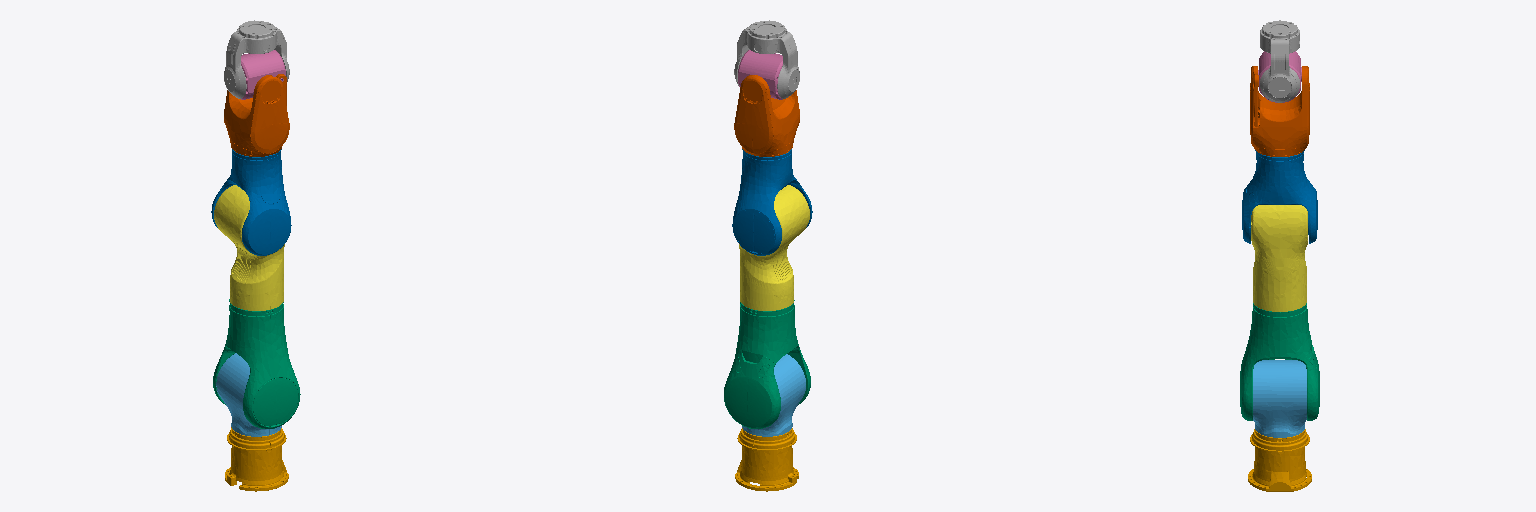
URDF robot description (robot):
<?xml version="1.0" encoding="UTF-8"?>
<robot name="robot">
  <link name="base_link">
    <visual>
      <origin xyz="0 0 0" rpy="0 0 0"/>
      <geometry>
        <mesh filename="meshes/base_link.stl"/>
      </geometry>
    </visual>
    <collision>
      <origin xyz="0 0 0" rpy="0 0 0"/>
      <geometry>
        <mesh filename="meshes/base_link.stl"/>
      </geometry>
    </collision>
  </link>
  <link name="Link_1">
    <visual>
      <origin xyz="0 0 0" rpy="0 0 0"/>
      <geometry>
        <mesh filename="meshes/Link_1.stl"/>
      </geometry>
    </visual>
    <collision>
      <origin xyz="0 0 0" rpy="0 0 0"/>
      <geometry>
        <mesh filename="meshes/Link_1.stl"/>
      </geometry>
    </collision>
  </link>
  <link name="Link_2">
    <visual>
      <origin xyz="0 0 0" rpy="0 0 0"/>
      <geometry>
        <mesh filename="meshes/Link_2.stl"/>
      </geometry>
    </visual>
    <collision>
      <origin xyz="0 0 0" rpy="0 0 0"/>
      <geometry>
        <mesh filename="meshes/Link_2.stl"/>
      </geometry>
    </collision>
  </link>
  <link name="Link_3">
    <visual>
      <origin xyz="0 0 0" rpy="0 0 0"/>
      <geometry>
        <mesh filename="meshes/Link_3.stl"/>
      </geometry>
    </visual>
    <collision>
      <origin xyz="0 0 0" rpy="0 0 0"/>
      <geometry>
        <mesh filename="meshes/Link_3.stl"/>
      </geometry>
    </collision>
  </link>
  <link name="Link_4">
    <visual>
      <origin xyz="0 0 0" rpy="0 0 0"/>
      <geometry>
        <mesh filename="meshes/Link_4.stl"/>
      </geometry>
    </visual>
    <collision>
      <origin xyz="0 0 0" rpy="0 0 0"/>
      <geometry>
        <mesh filename="meshes/Link_4.stl"/>
      </geometry>
    </collision>
  </link>
  <link name="Link_5">
    <visual>
      <origin xyz="0 0 0" rpy="0 0 0"/>
      <geometry>
        <mesh filename="meshes/Link_5.stl"/>
      </geometry>
    </visual>
    <collision>
      <origin xyz="0 0 0" rpy="0 0 0"/>
      <geometry>
        <mesh filename="meshes/Link_5.stl"/>
      </geometry>
    </collision>
  </link>
  <link name="Link_6">
    <visual>
      <origin xyz="0 0 0" rpy="0 0 0"/>
      <geometry>
        <mesh filename="meshes/Link_6.stl"/>
      </geometry>
    </visual>
    <collision>
      <origin xyz="0 0 0" rpy="0 0 0"/>
      <geometry>
        <mesh filename="meshes/Link_6.stl"/>
      </geometry>
    </collision>
  </link>
  <link name="Link_7">
    <visual>
      <origin xyz="0 0 0" rpy="0 0 0"/>
      <geometry>
        <mesh filename="meshes/Link_7.stl"/>
      </geometry>
    </visual>
    <collision>
      <origin xyz="0 0 0" rpy="0 0 0"/>
      <geometry>
        <mesh filename="meshes/Link_7.stl"/>
      </geometry>
    </collision>
  </link>
  <joint name="Joint_1" type="revolute">
    <parent link="base_link"/>
    <child link="Link_1"/>
    <origin xyz="0 0 0" rpy="0 0 0"/>
    <axis xyz="0 0 1"/>
    <limit lower="-3.14159" upper="3.14159" effort="10" velocity="1"/>
  </joint>
  <joint name="Joint_2" type="revolute">
    <parent link="Link_1"/>
    <child link="Link_2"/>
    <origin xyz="0.002 0.0628 0.1745" rpy="1.57079633 0 0"/>
    <axis xyz="0 0 1"/>
    <limit lower="-3.14159" upper="3.14159" effort="10" velocity="1"/>
  </joint>
  <joint name="Joint_3" type="revolute">
    <parent link="Link_2"/>
    <child link="Link_3"/>
    <origin xyz="0 0.171 0.0628" rpy="0 1.57079633 -1.57079633"/>
    <axis xyz="0 0 1"/>
    <limit lower="-3.14159" upper="3.14159" effort="10" velocity="1"/>
  </joint>
  <joint name="Joint_4" type="revolute">
    <parent link="Link_3"/>
    <child link="Link_4"/>
    <origin xyz="-0.0509978 -0.0105 -0.16100073" rpy="-1.57079633 0 1.57079633"/>
    <axis xyz="0 0 1"/>
    <limit lower="-3.14159" upper="3.14159" effort="10" velocity="1"/>
  </joint>
  <joint name="Joint_5" type="revolute">
    <parent link="Link_4"/>
    <child link="Link_5"/>
    <origin xyz="0.0105 0.14 -0.05100051" rpy="-1.57079633 0 0"/>
    <axis xyz="0 0 1"/>
    <limit lower="-3.14159" upper="3.14159" effort="10" velocity="1"/>
  </joint>
  <joint name="Joint_6" type="revolute">
    <parent link="Link_5"/>
    <child link="Link_6"/>
    <origin xyz="0 0.03800002 0.138" rpy="1.57079633 0 3.14159265"/>
    <axis xyz="0 0 1"/>
    <limit lower="-3.14159" upper="3.14159" effort="10" velocity="1"/>
  </joint>
  <joint name="Joint_7" type="revolute">
    <parent link="Link_6"/>
    <child link="Link_7"/>
    <origin xyz="-0.0399 0 -0.03799999" rpy="0 1.57079633 0"/>
    <axis xyz="0 0 1"/>
    <limit lower="-3.14159" upper="3.14159" effort="10" velocity="1"/>
  </joint>
</robot>

--- What the picture shows (computed from the rendered views, not written in the file) ---
3 views of the same robot in one strip: view 1: azimuth 30°, elevation 25°; view 2: azimuth 150°, elevation 25°; view 3: azimuth 270°, elevation 25° (orthographic).
Model robot with 8 links and 7 joints (7 revolute), rooted at base_link, posed every joint at zero.
Visible links, largest first — view 1: Link_2, Link_4, Link_3, Link_5, base_link, Link_7, Link_1, Link_6; view 2: Link_2, Link_4, Link_3, Link_5, base_link, Link_7, Link_1, Link_6; view 3: Link_3, Link_2, Link_1, Link_5, Link_4, base_link, Link_7, Link_6.
Link boxes in pixels (x1,y1,x2,y2): Link_2: (213,299,300,428); Link_4: (211,149,291,255); Link_3: (214,185,284,310); Link_5: (224,74,289,156); base_link: (225,427,288,491); Link_7: (224,20,289,98); Link_1: (216,353,281,436); Link_6: (241,50,285,99); Link_2: (724,300,810,428); Link_4: (732,149,812,255); Link_3: (739,185,809,310); Link_5: (734,75,799,156); base_link: (735,428,798,491); Link_7: (734,20,799,98); Link_1: (742,354,805,436); Link_6: (738,50,782,99); Link_3: (1251,205,1307,311); Link_2: (1240,303,1319,420); Link_1: (1253,360,1306,437); Link_5: (1250,66,1309,156); Link_4: (1242,150,1317,243); base_link: (1248,429,1311,491); Link_7: (1260,20,1299,102); Link_6: (1258,51,1301,102).
Size in the robot's own frame: 0.1184 by 0.1417 by 0.8745 metres.
Meshes: 8 distinct files referenced, 8 mesh visuals loaded (8 binary STL).
